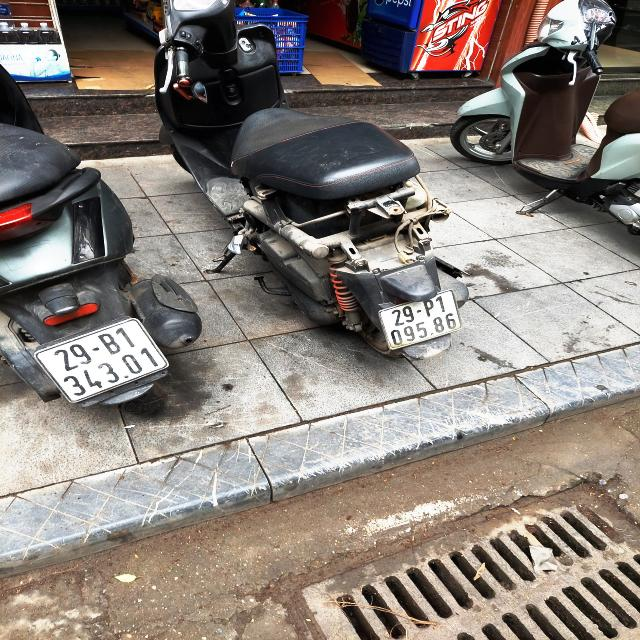license_plate: (24, 314, 177, 411), (372, 285, 468, 357)
